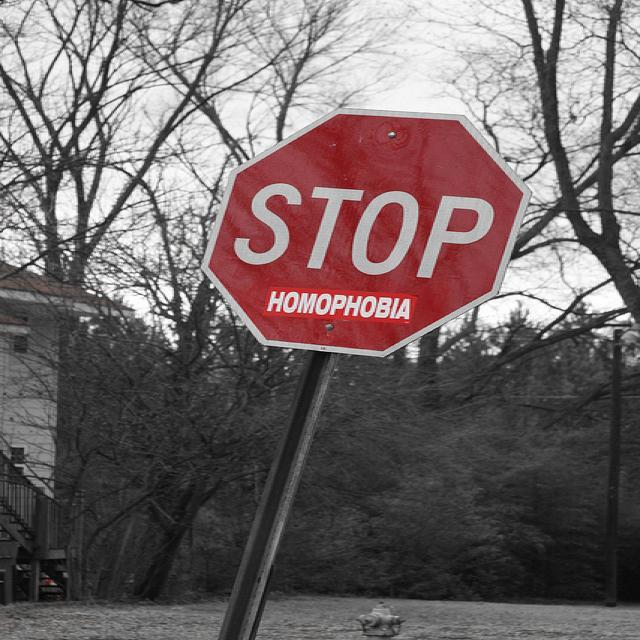fire_hydrant: (357, 598, 408, 640)
